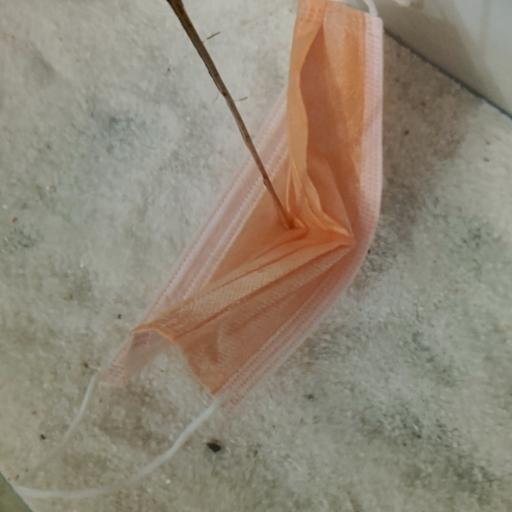mask: (60, 0, 393, 426)
